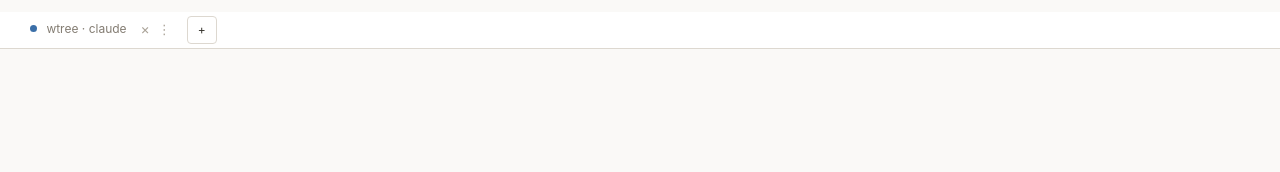
Test: AgentSessionTabsComponent › the picker and a tab's overflow menu never show together: each opening closes the other (#757, #886)
Click the button with class "tab-menu-trigger" at (167, 29), box [158,20,177,38]
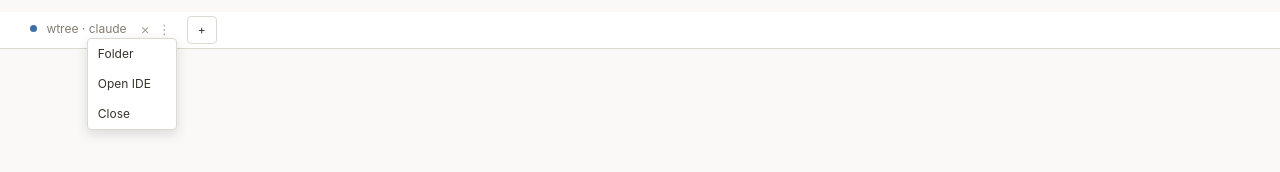
Click the button "+" at (202, 30), box [187,16,217,44]
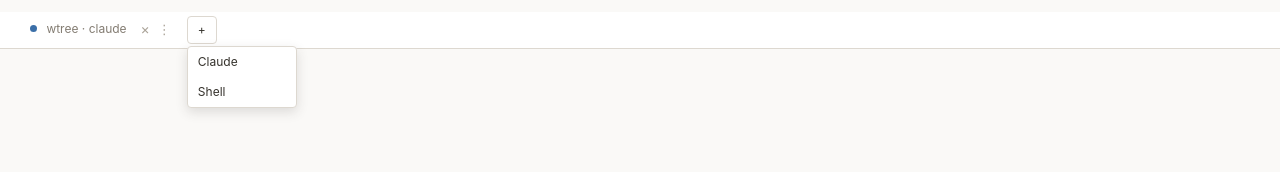
Check: the menu with class "agent-picker" is shown, box [187,46,297,108]
Click the button with class "tab-menu-trigger" at (167, 29), box [158,20,177,38]
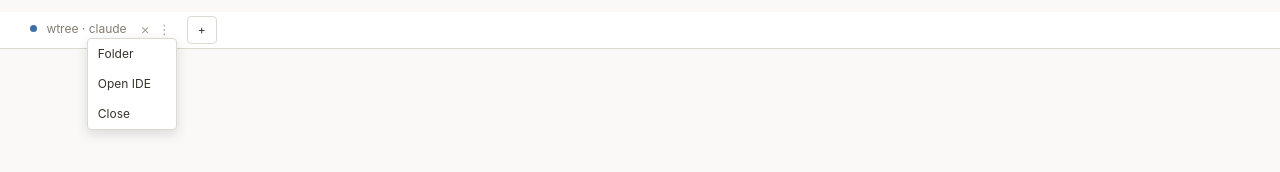
Check: the menu with class "agent-picker" is gone
